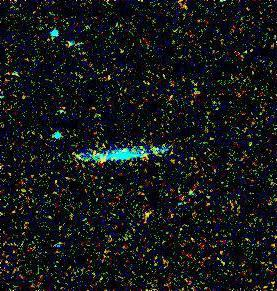star: (86, 145, 116, 175)
